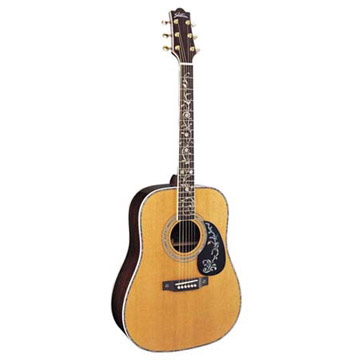guitar: (108, 7, 243, 353)
